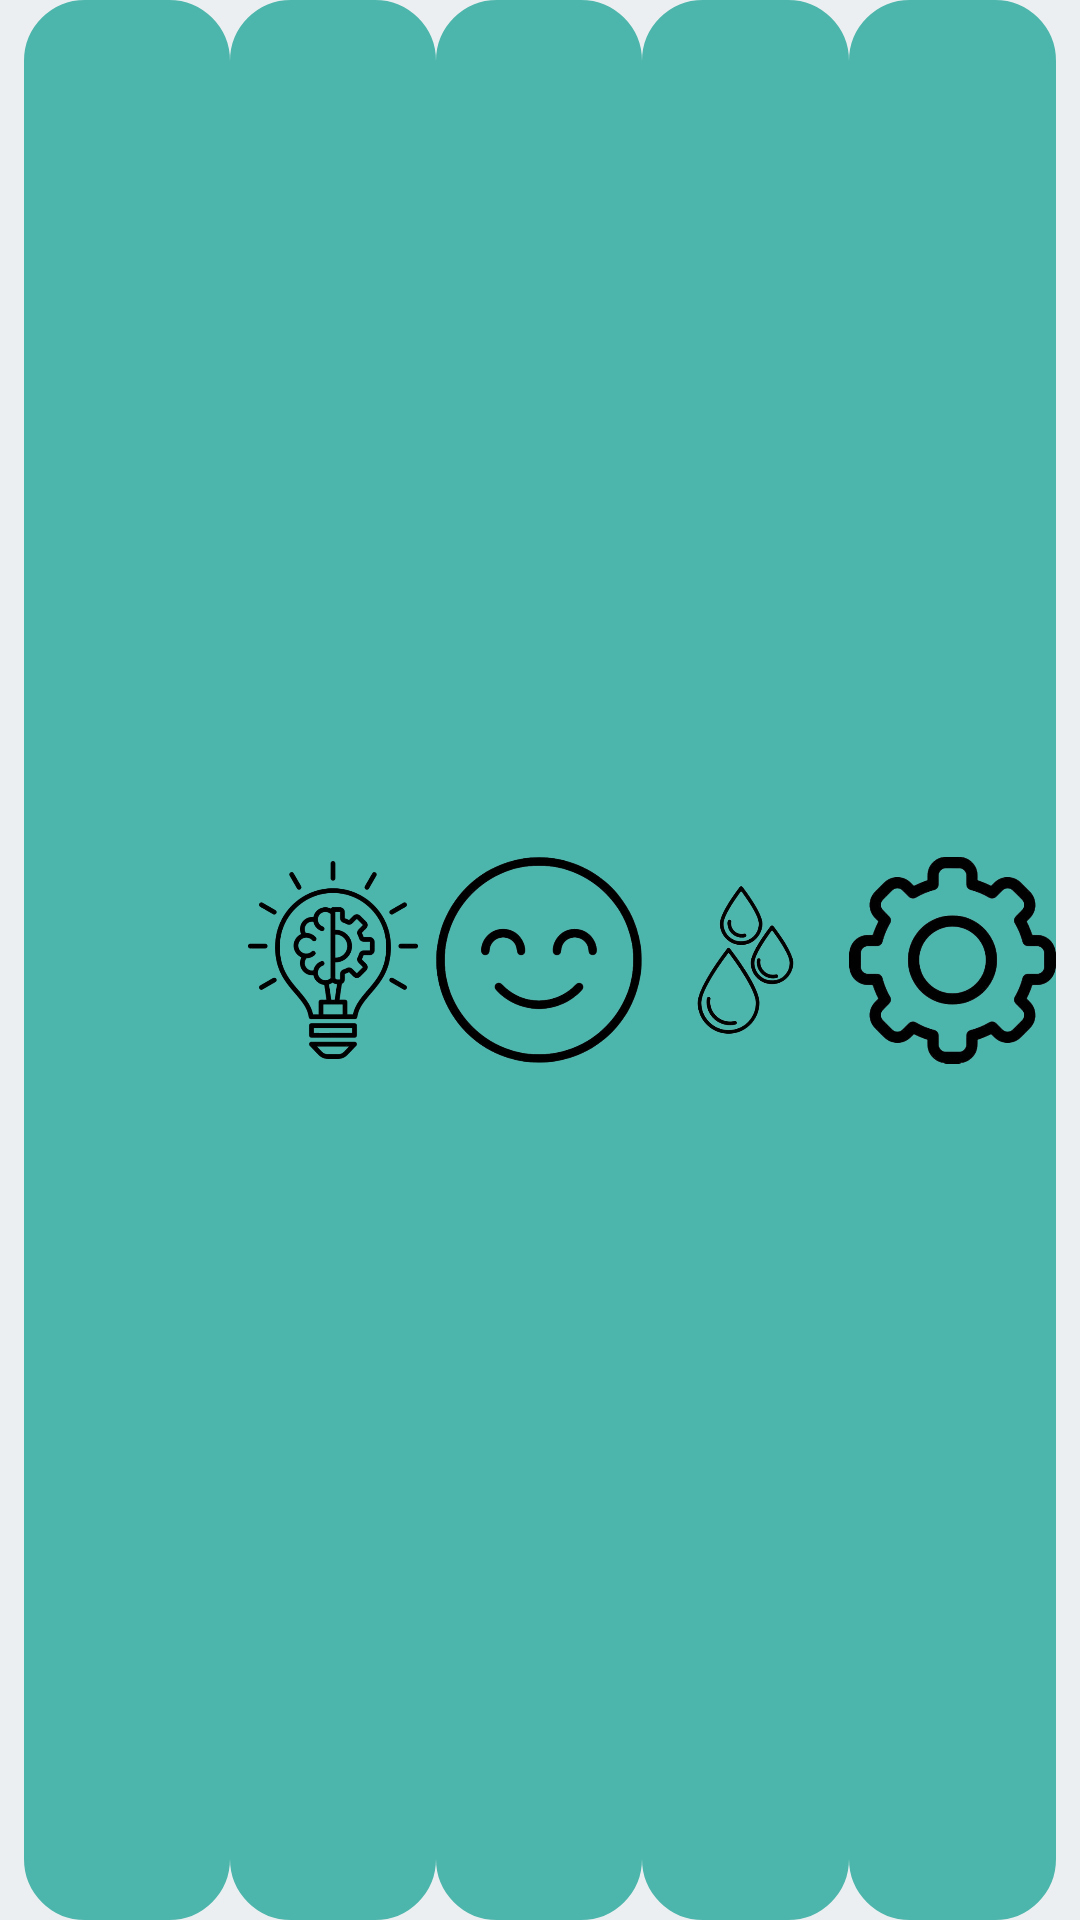

Screen size 1080px x 1920px. Icon name, then its box in pixels as (x1, y1, x2, y2):
habitn: (248, 861, 418, 1059)
moodn: (436, 857, 642, 1063)
